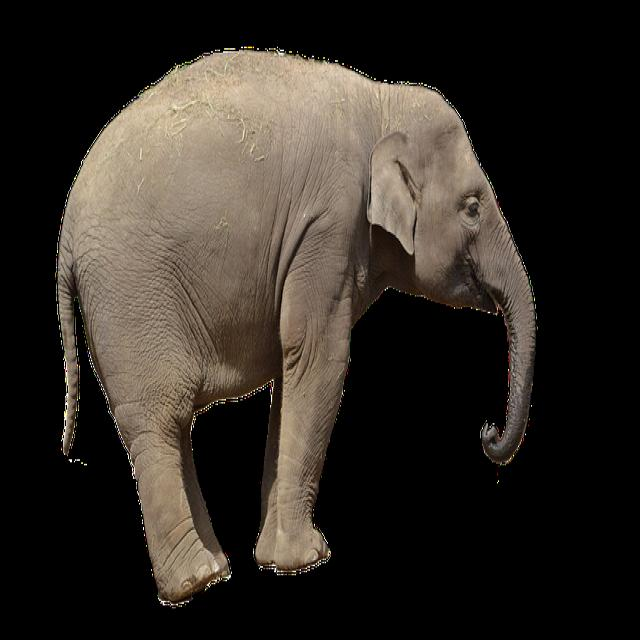elephant: (58, 51, 534, 604)
